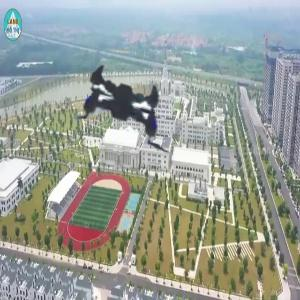drone: (18, 7, 226, 215)
